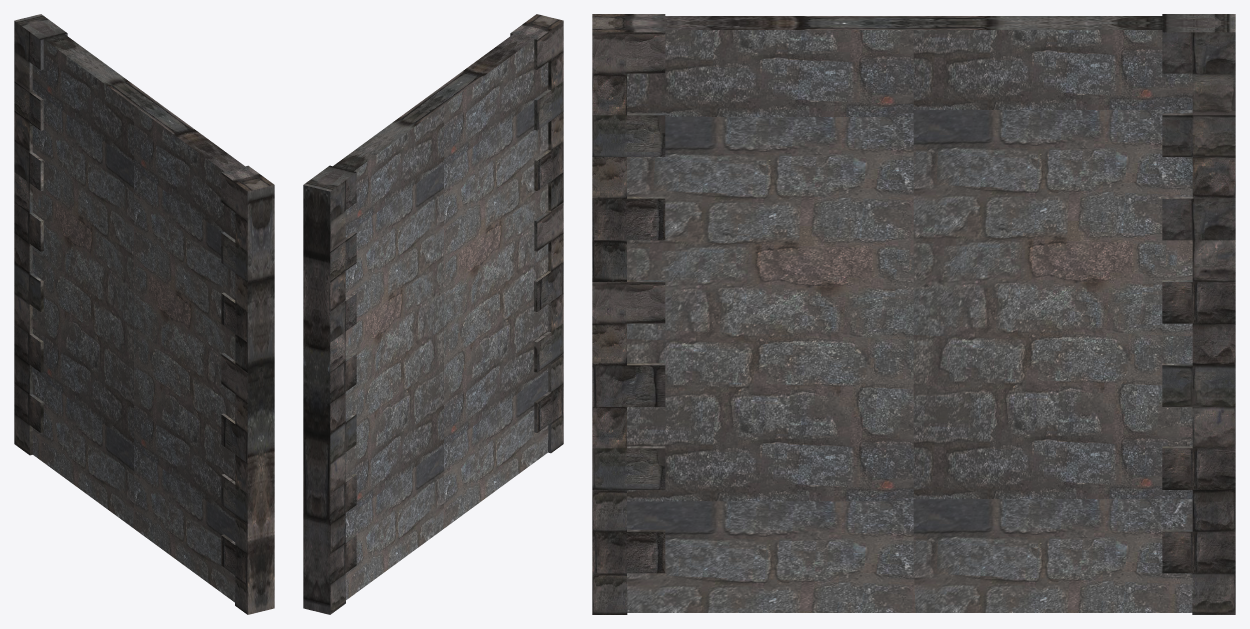
File: Wall.fbx
3 renders of one model, left to right at view 1: azimuth 30°, elevation 25°; view 2: azimuth 150°, elevation 25°; view 3: azimuth 270°, elevation 25°, orthographic. The views are drawn at different scales.
Parts seen in each view (by area): view 1: 2x2_Wall; view 2: 2x2_Wall; view 3: 2x2_Wall.
Boxes of the visible parts, x1=… form: 2x2_Wall: x1=14, y1=14, x2=274, y2=614; 2x2_Wall: x1=303, y1=14, x2=563, y2=614; 2x2_Wall: x1=592, y1=14, x2=1235, y2=614.
Size of the model in its own units: 40.12 by 600 by 600.
